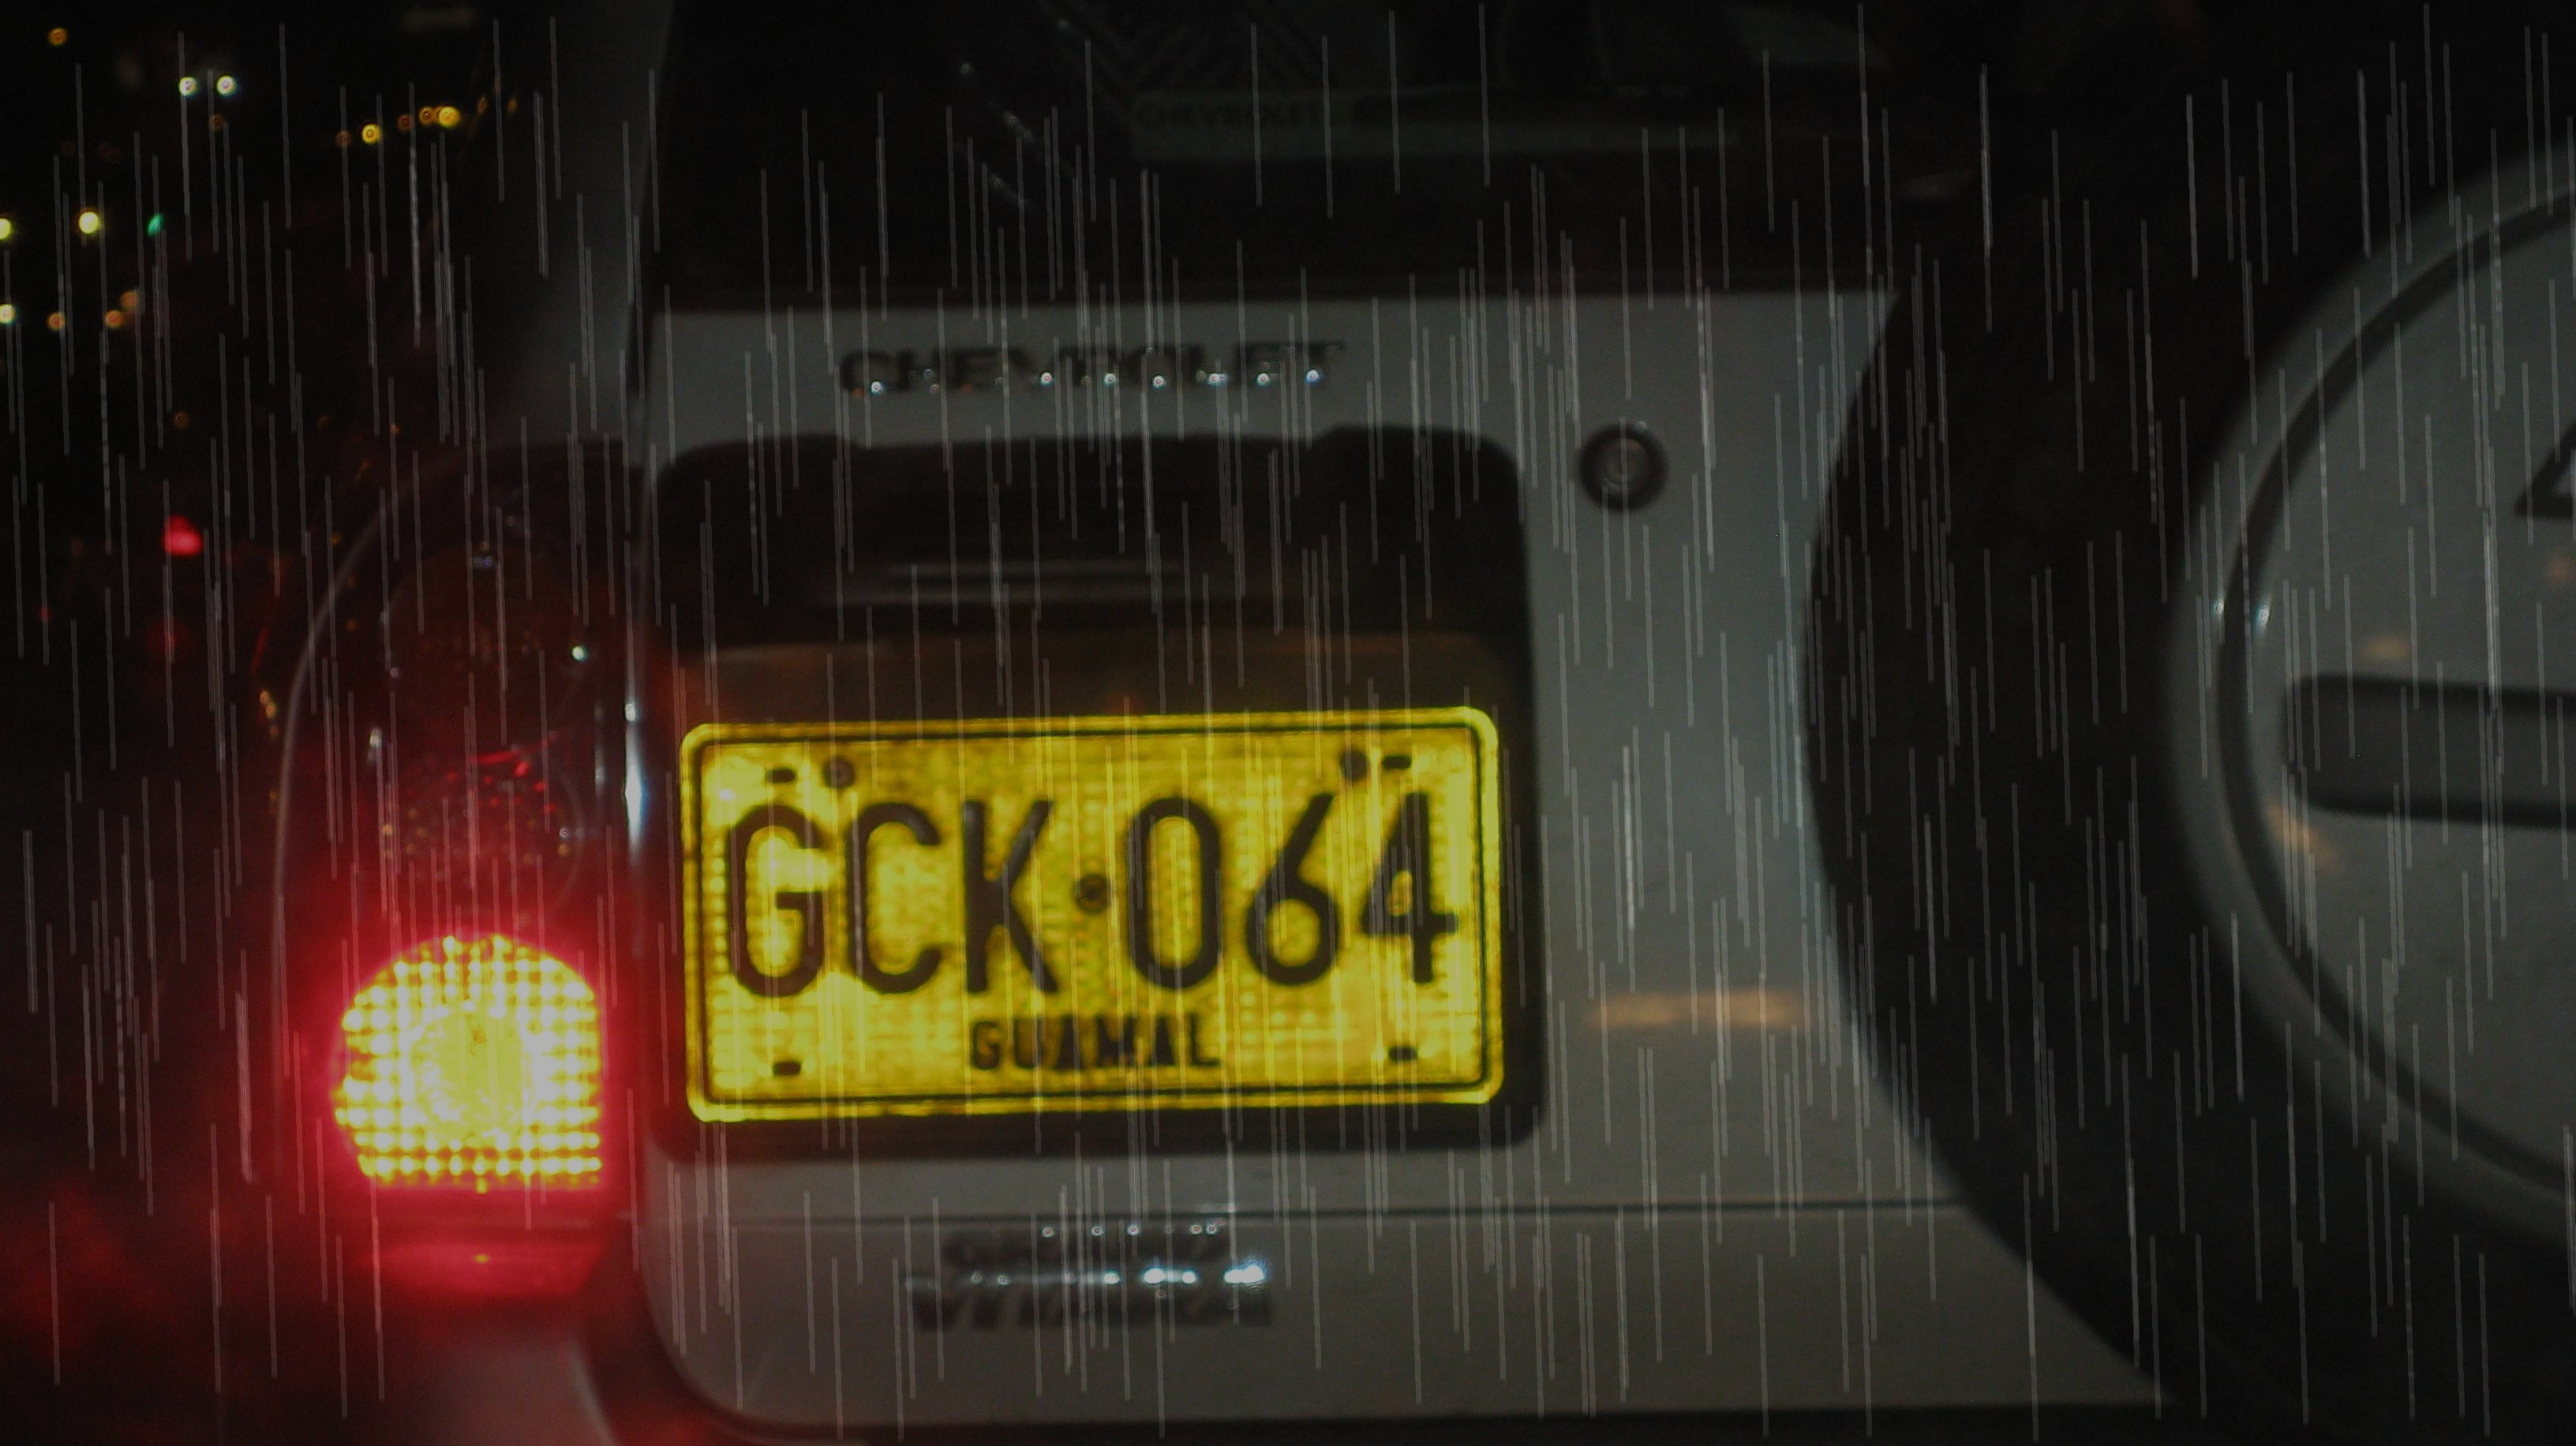placas: (656, 689, 1516, 1133)
